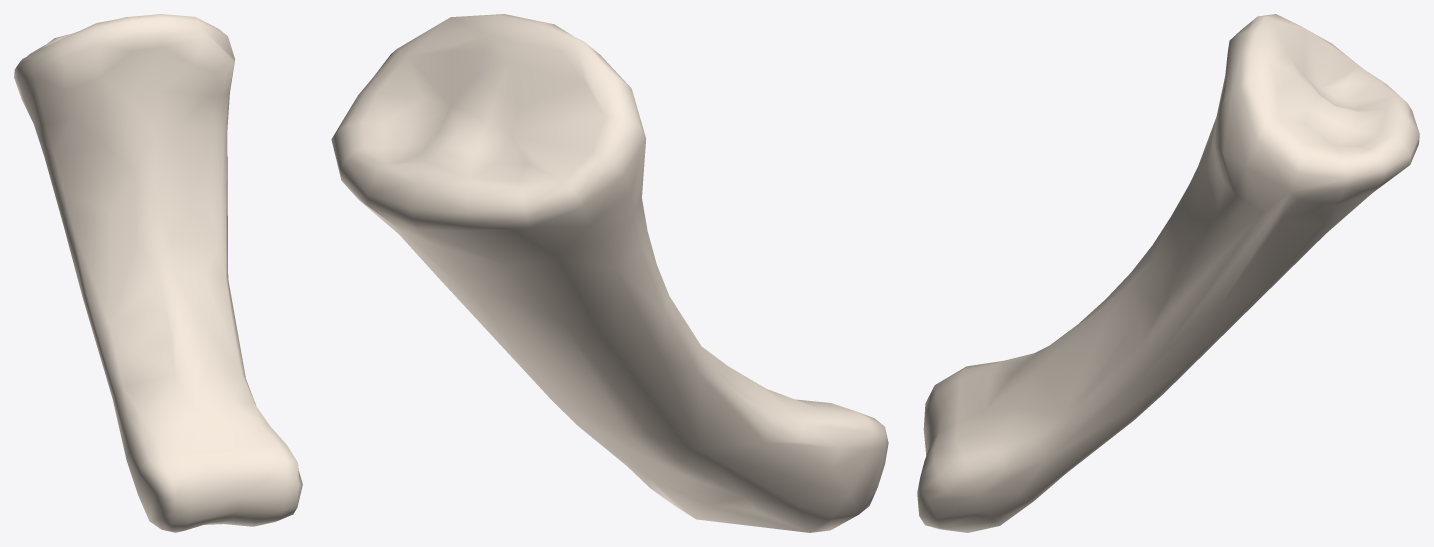
Rendered from right_digit_3_middle.glb.
The picture shows the model from 3 angles, left to right: view 1: azimuth 30°, elevation 25°; view 2: azimuth 150°, elevation 25°; view 3: azimuth 270°, elevation 25°; orthographic projection. The views are drawn at different scales.
Visible parts, largest first — view 1: Middle phalanx of 3rd finger.r; view 2: Middle phalanx of 3rd finger.r; view 3: Middle phalanx of 3rd finger.r.
Part boxes in pixels (x1,y1,x2,y2): Middle phalanx of 3rd finger.r: [14, 14, 302, 532]; Middle phalanx of 3rd finger.r: [331, 14, 888, 532]; Middle phalanx of 3rd finger.r: [917, 14, 1419, 532].
Size of the model in its own units: 0.014 by 0.026 by 0.0238.
